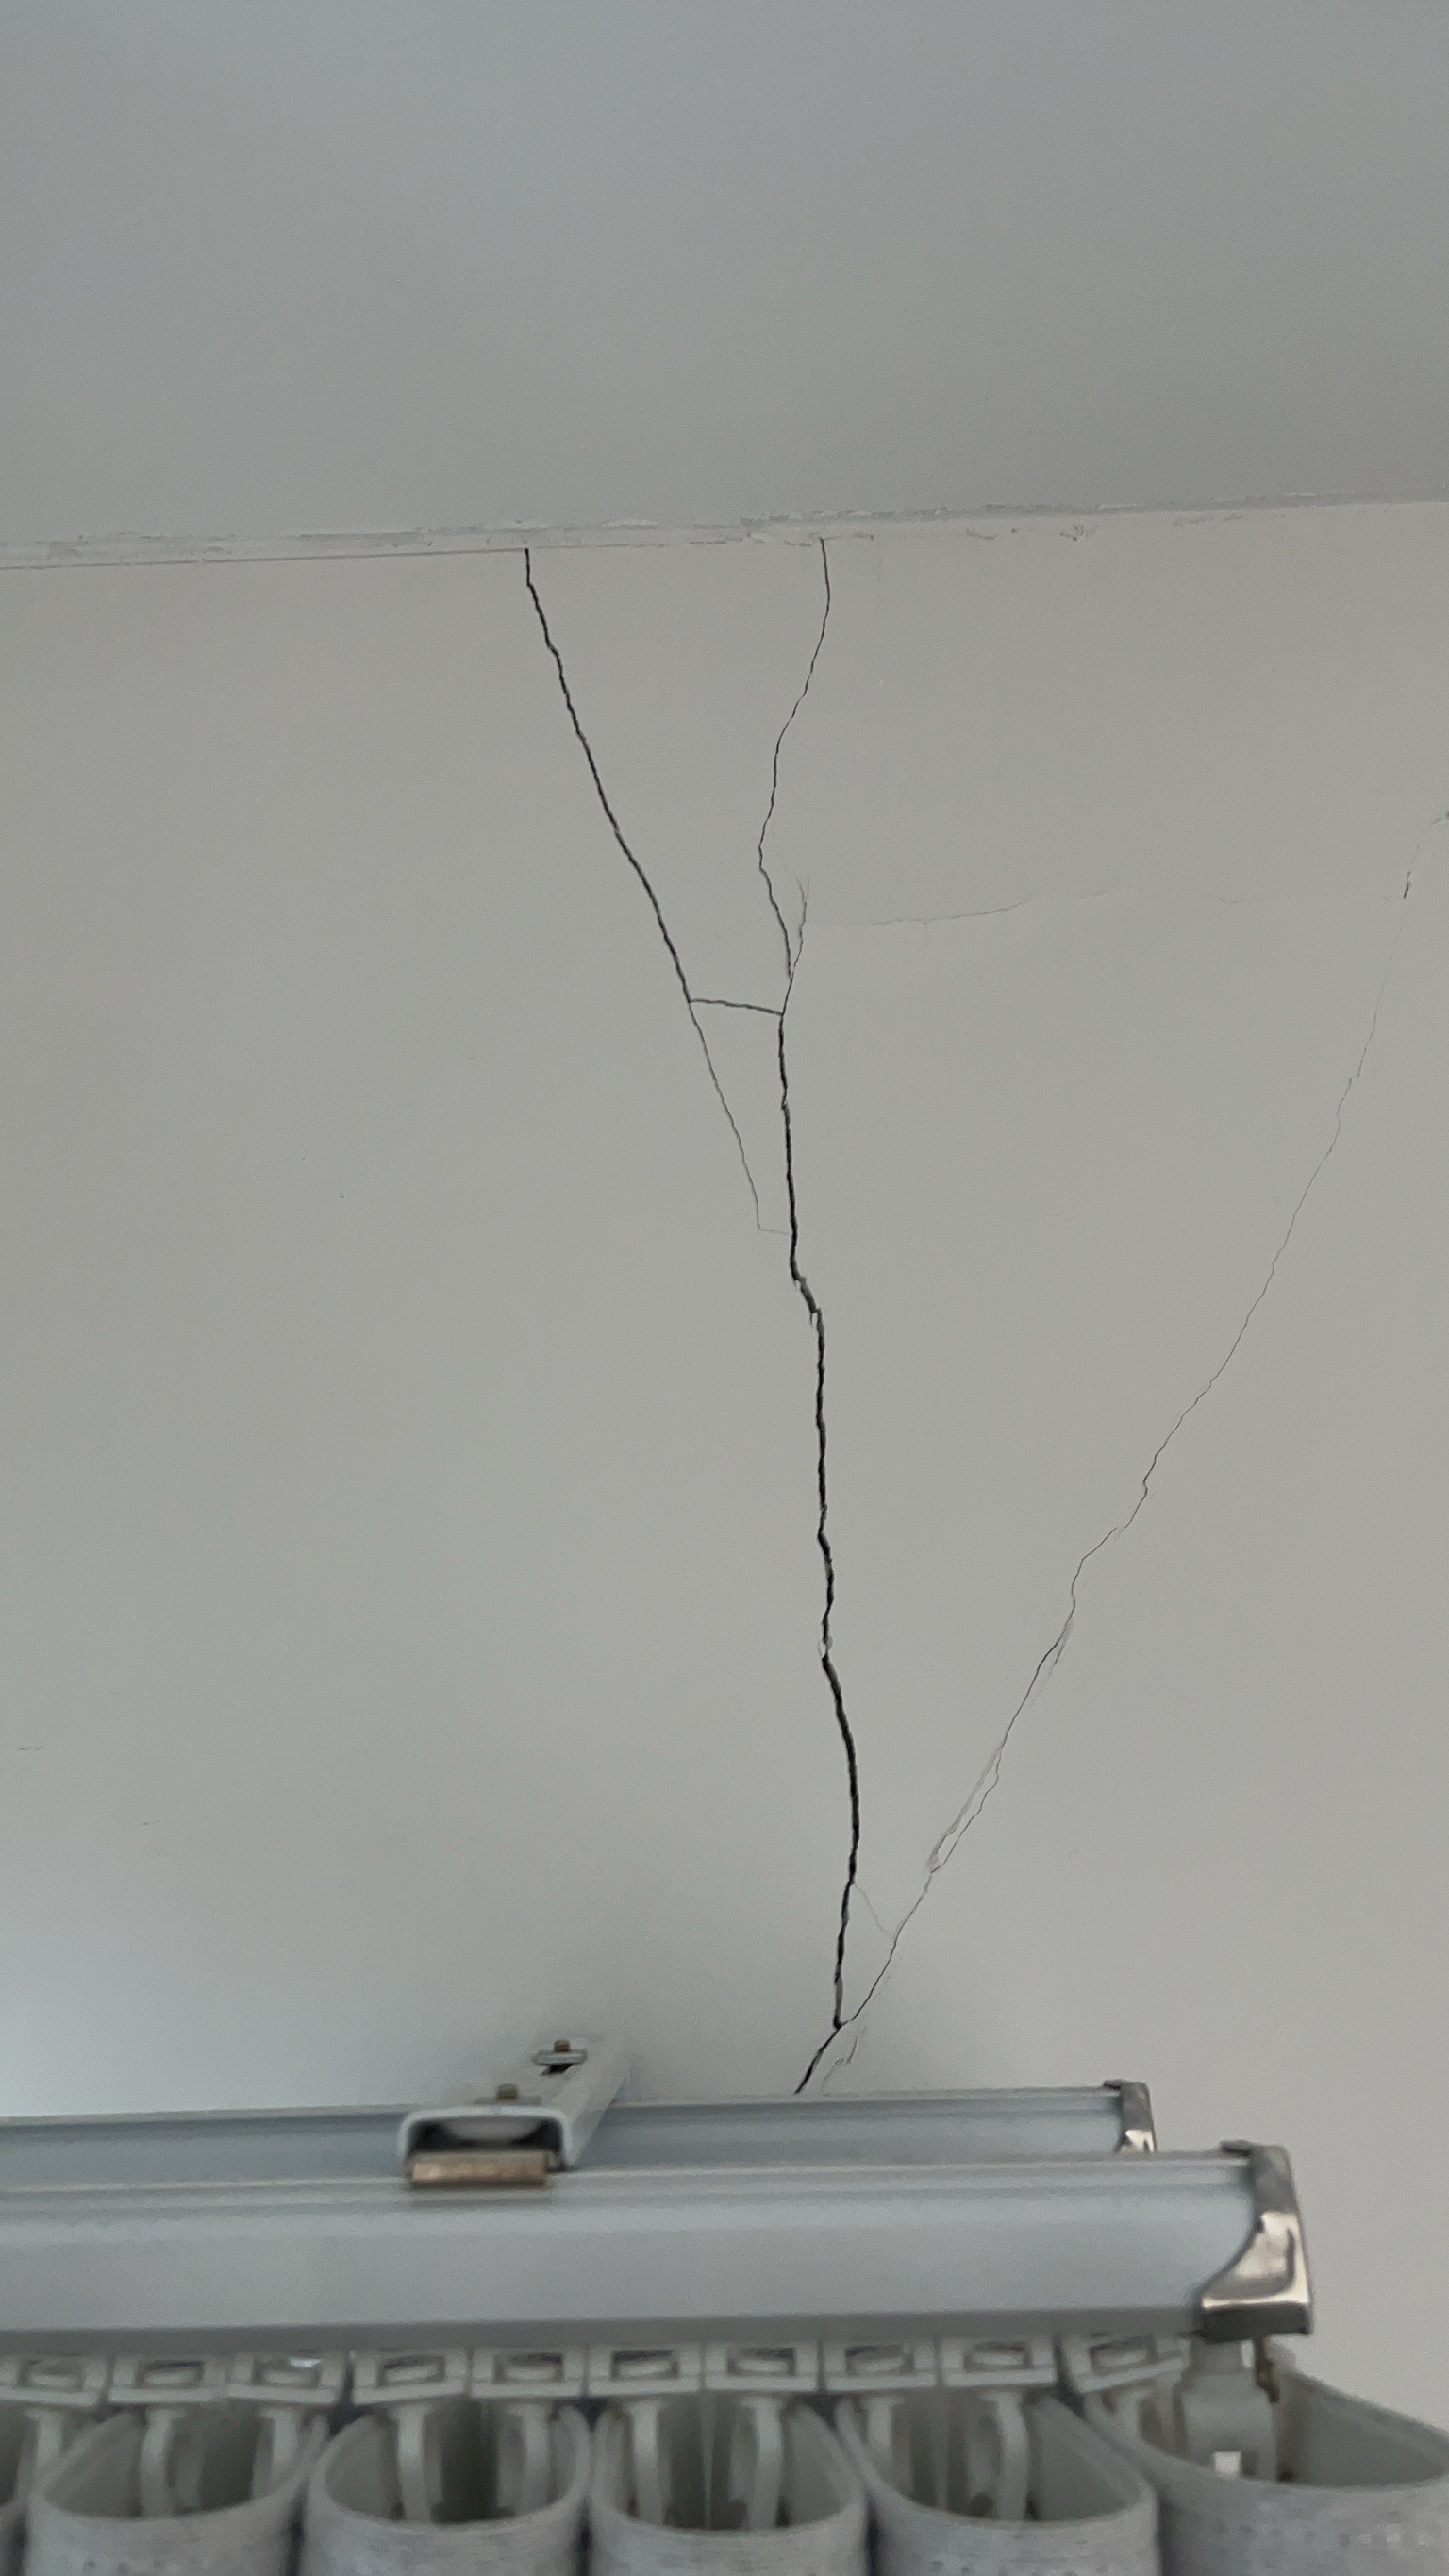Low: (481, 545, 1085, 2107)
